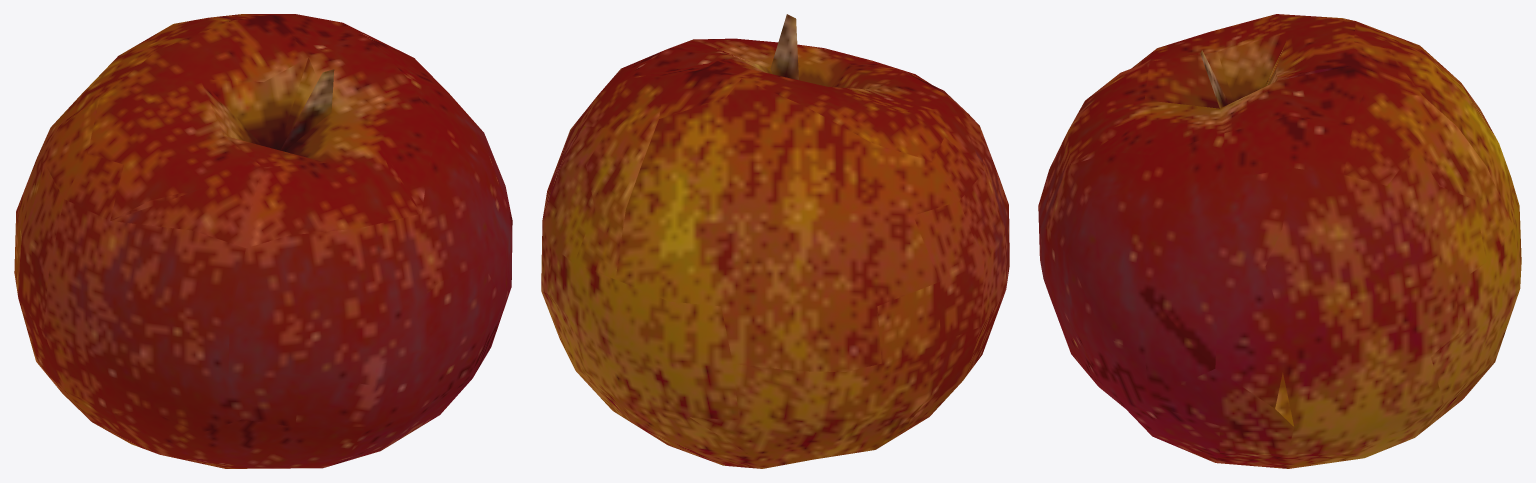
The model's file is food_apple_01.glb.
The picture shows the model from 3 angles, left to right: view 1: azimuth 30°, elevation 25°; view 2: azimuth 150°, elevation 25°; view 3: azimuth 270°, elevation 25°; orthographic projection. The views are drawn at different scales.
Parts seen in each view (by area): view 1: mesh; view 2: mesh; view 3: mesh.
Boxes of the visible parts, left/top/right/bottom form: mesh: left=14, top=14, right=512, bottom=468; mesh: left=541, top=14, right=1009, bottom=468; mesh: left=1038, top=14, right=1521, bottom=468.
Size of the model in its own units: 0.099 by 0.0854 by 0.0974.
1 material, 1 textured.
